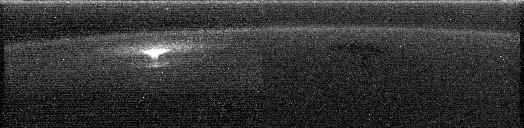negative: (136, 46, 174, 60)
